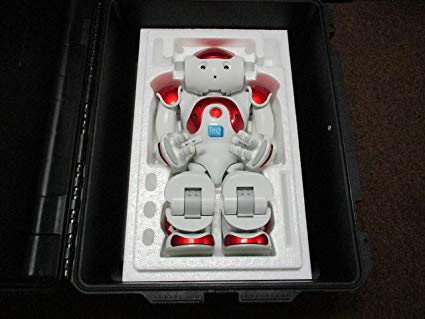nao: (147, 45, 284, 258)
